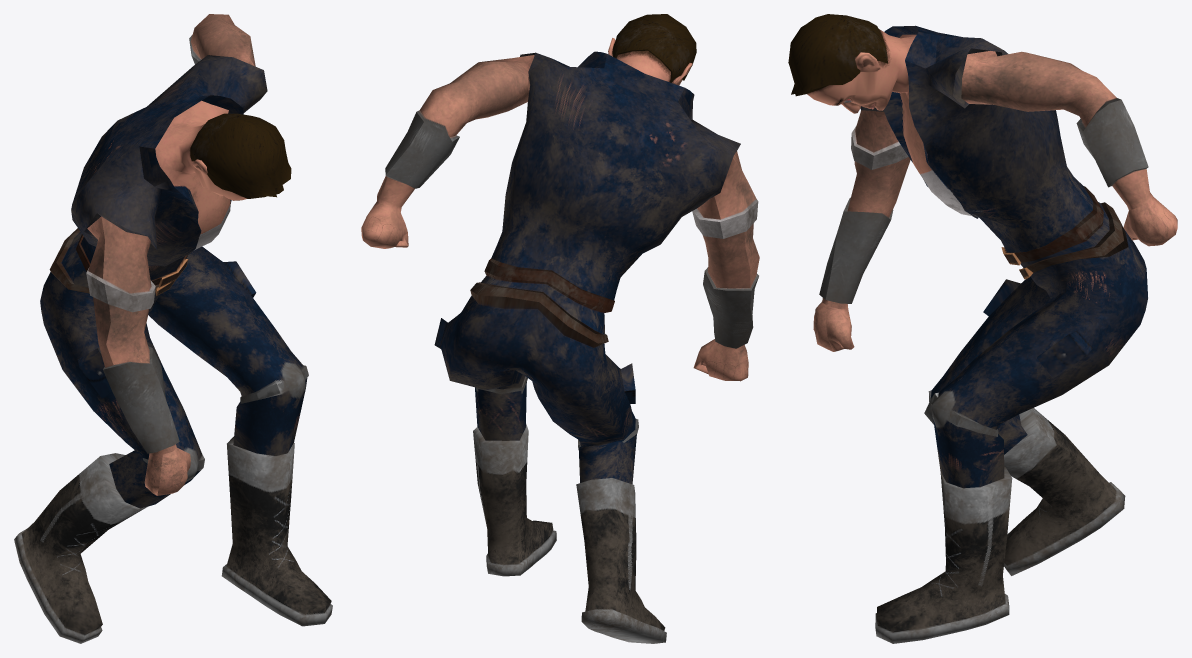
Rendered from Anim_coger_objeto_jugador.0030.obj.
3 views of the same model, side by side, from view 1: azimuth 30°, elevation 25°; view 2: azimuth 150°, elevation 25°; view 3: azimuth 270°, elevation 25° (orthographic). The views are drawn at different scales.
Parts seen in each view (by area): view 1: polySurface1; view 2: polySurface1; view 3: polySurface1.
Boxes of the visible parts, x1,y1,x2,y2 form: polySurface1: [14, 14, 332, 643]; polySurface1: [361, 14, 759, 643]; polySurface1: [788, 14, 1177, 643].
Bounding box in the file's own units: 3.68 × 7.44 × 4.44.
